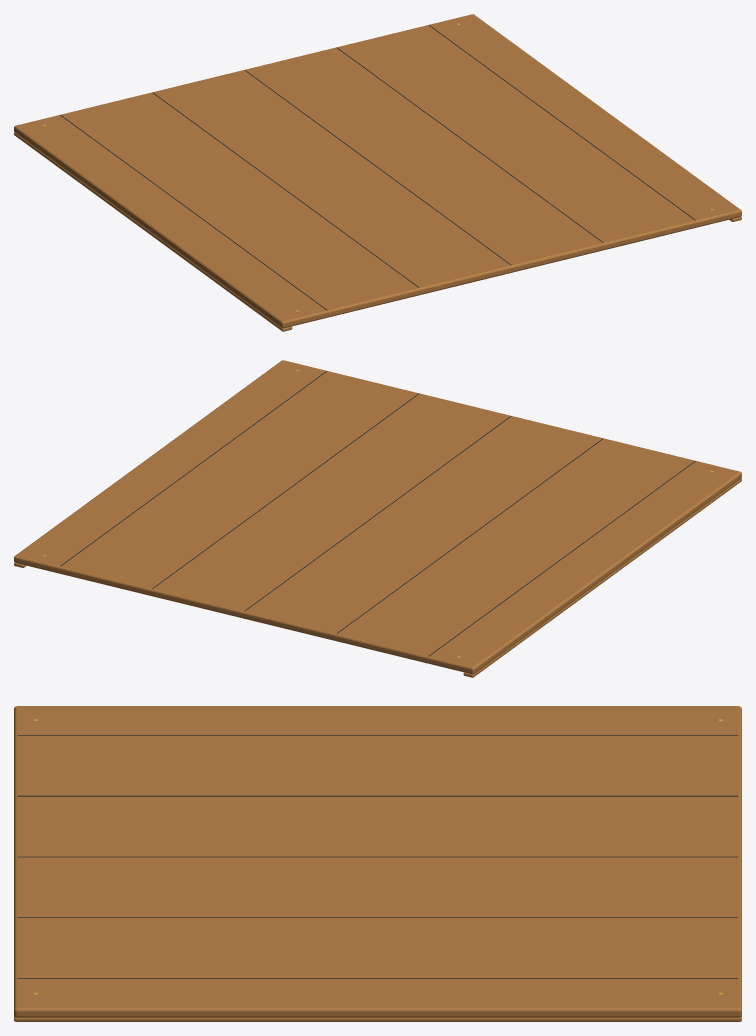
Rendered from chair-back.glb.
3 views of the same model, one above another, from view 1: azimuth 30°, elevation 25°; view 2: azimuth 150°, elevation 25°; view 3: azimuth 270°, elevation 25° (orthographic). The views are drawn at different scales.
Parts seen in each view (by area): view 1: wood, dark; view 2: wood, dark; view 3: wood, dark.
Part boxes in pixels (x1,y1,x2,y2): wood: (14, 14, 741, 331); dark: (60, 25, 695, 310); wood: (14, 360, 741, 677); dark: (60, 371, 695, 656); wood: (14, 706, 741, 1021); dark: (17, 735, 738, 978).
Bounding box in the file's own units: 10 × 0.221 × 10.12.
